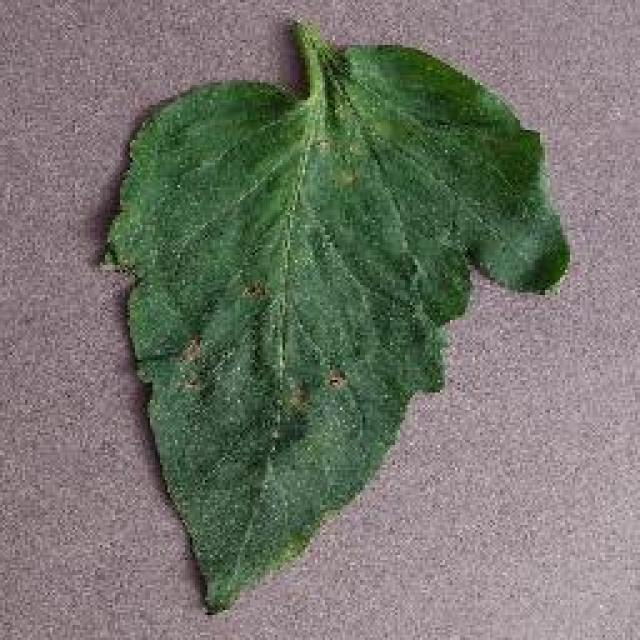Tomato___Target_Spot: (108, 25, 565, 608)
